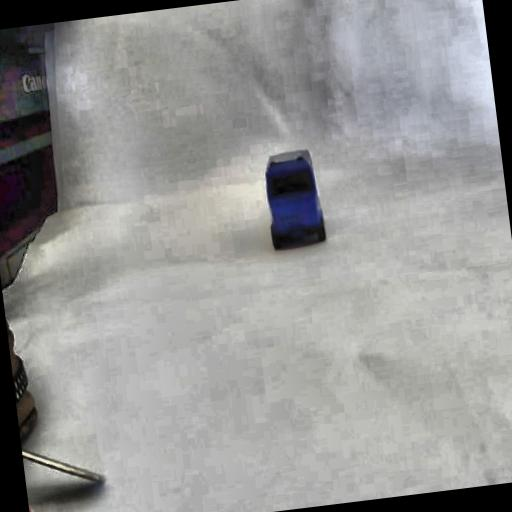police car: (254, 148, 333, 256)
